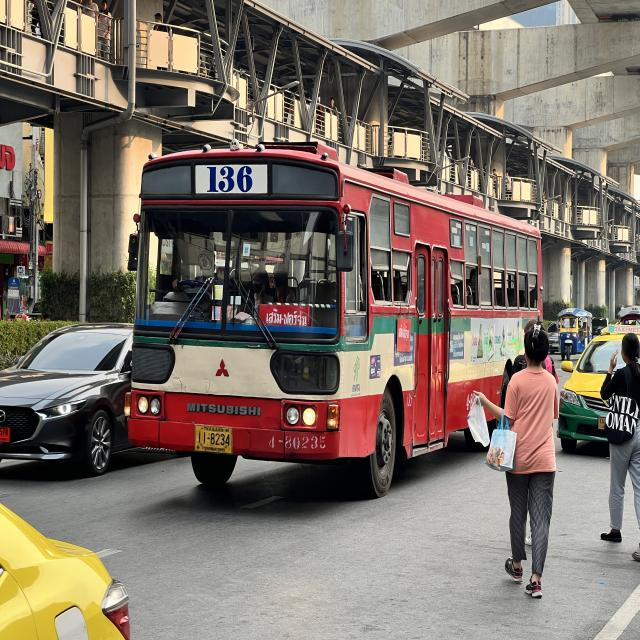BMTA-bus: (126, 136, 545, 502)
Bus-Line-Number: (196, 162, 266, 194)
Destination-Sign-Extra-Bus: (258, 300, 310, 328)
